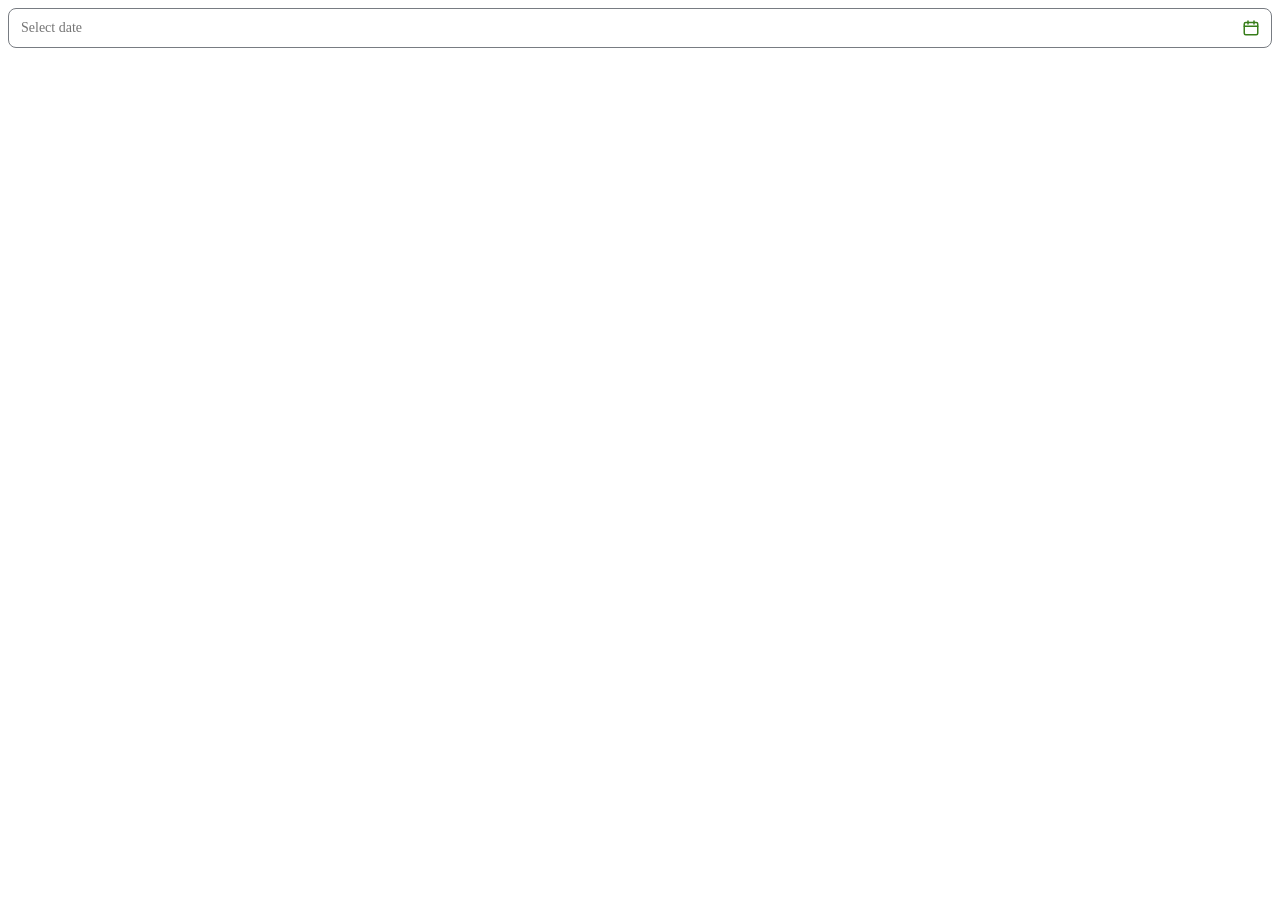
DatePicker › closes when the calendar button is clicked while open (review #3)
Click the field named "Event date". click: (621, 28)
box: x1=9 y1=9 x2=1233 y2=47
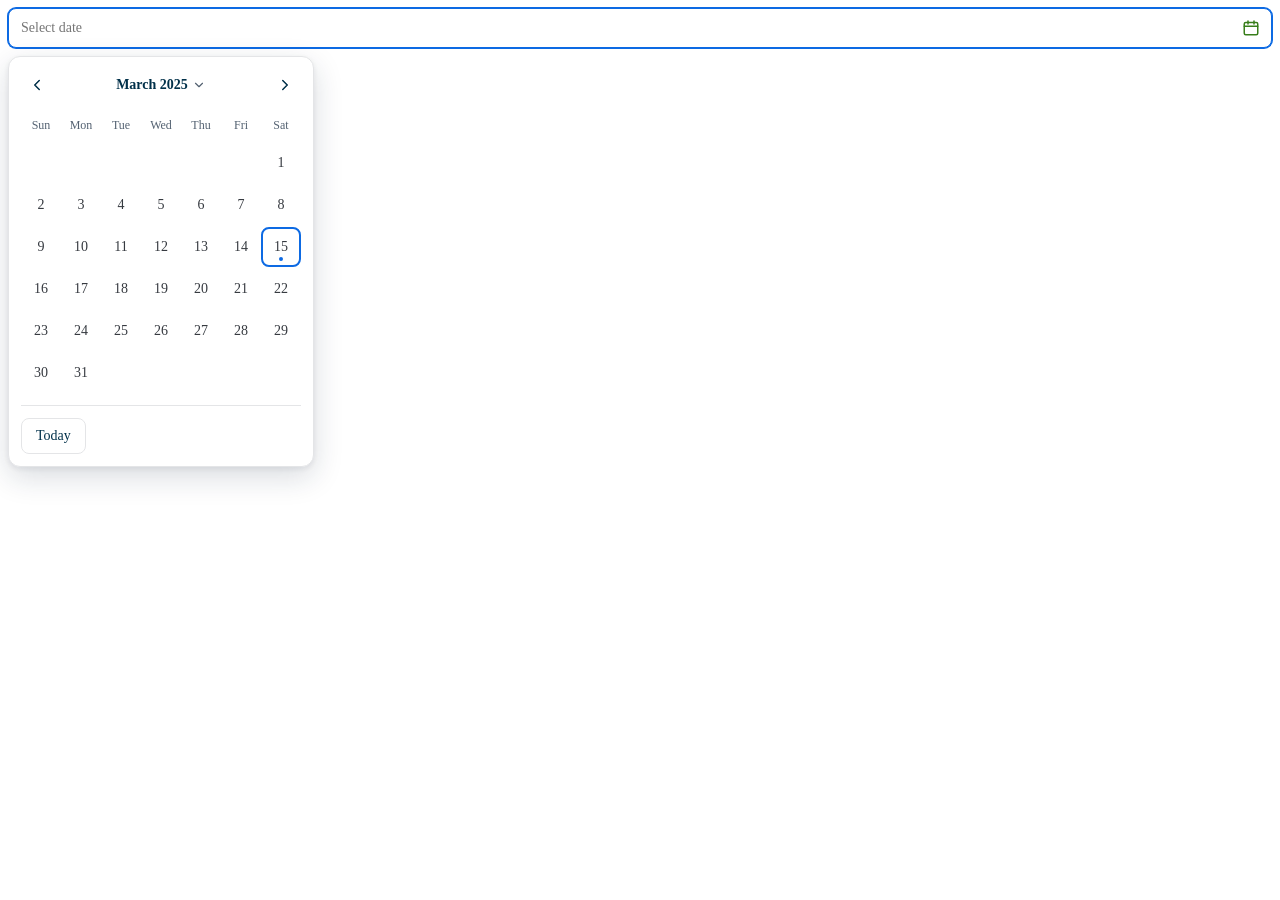
Check: the dialog is shown, box x1=8 y1=56 x2=314 y2=467
Click the button named "Open calendar". click: (1251, 28)
box: x1=1235 y1=12 x2=1267 y2=44
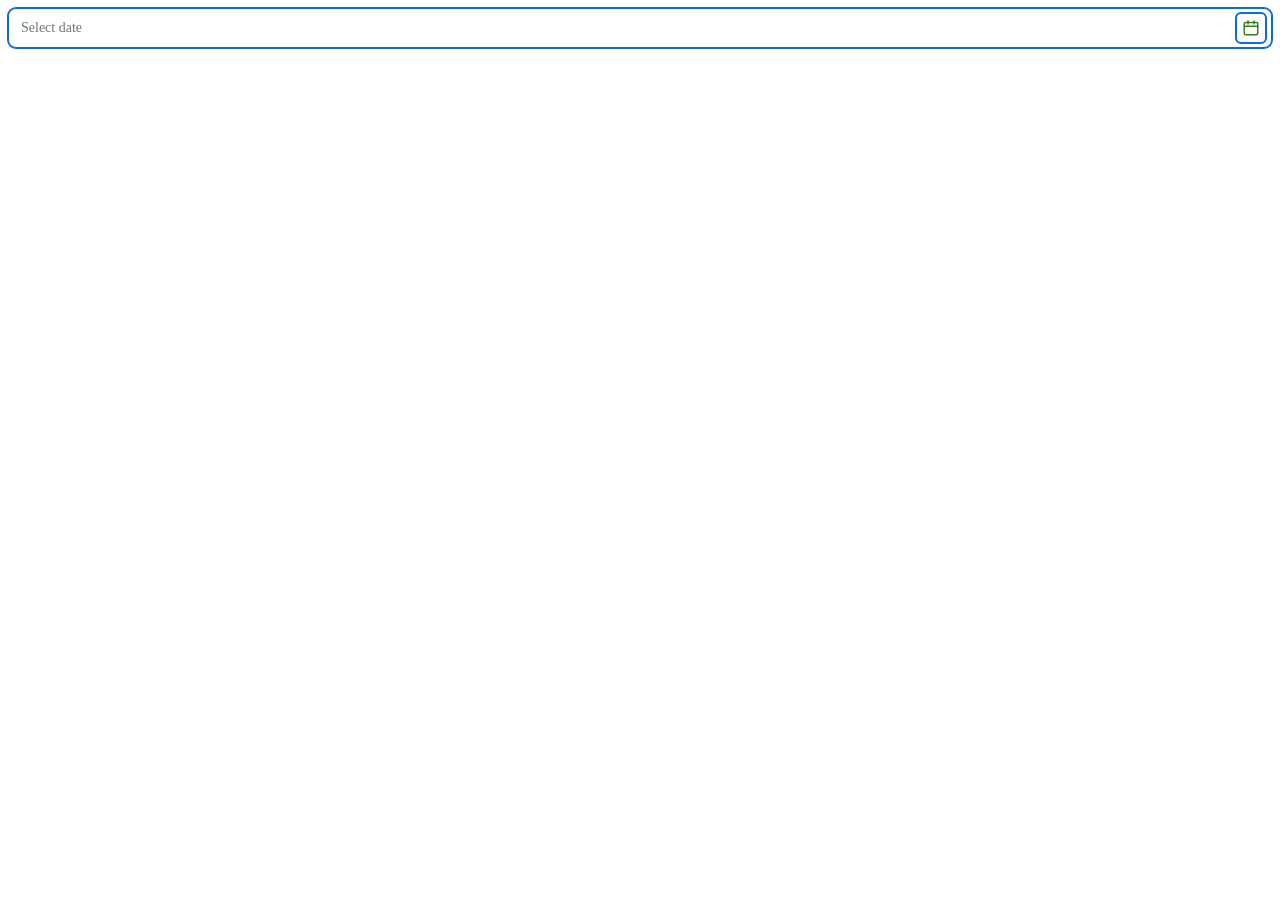
Check: the dialog is gone
Click the button named "Open calendar". click: (1251, 28)
box: x1=1235 y1=12 x2=1267 y2=44
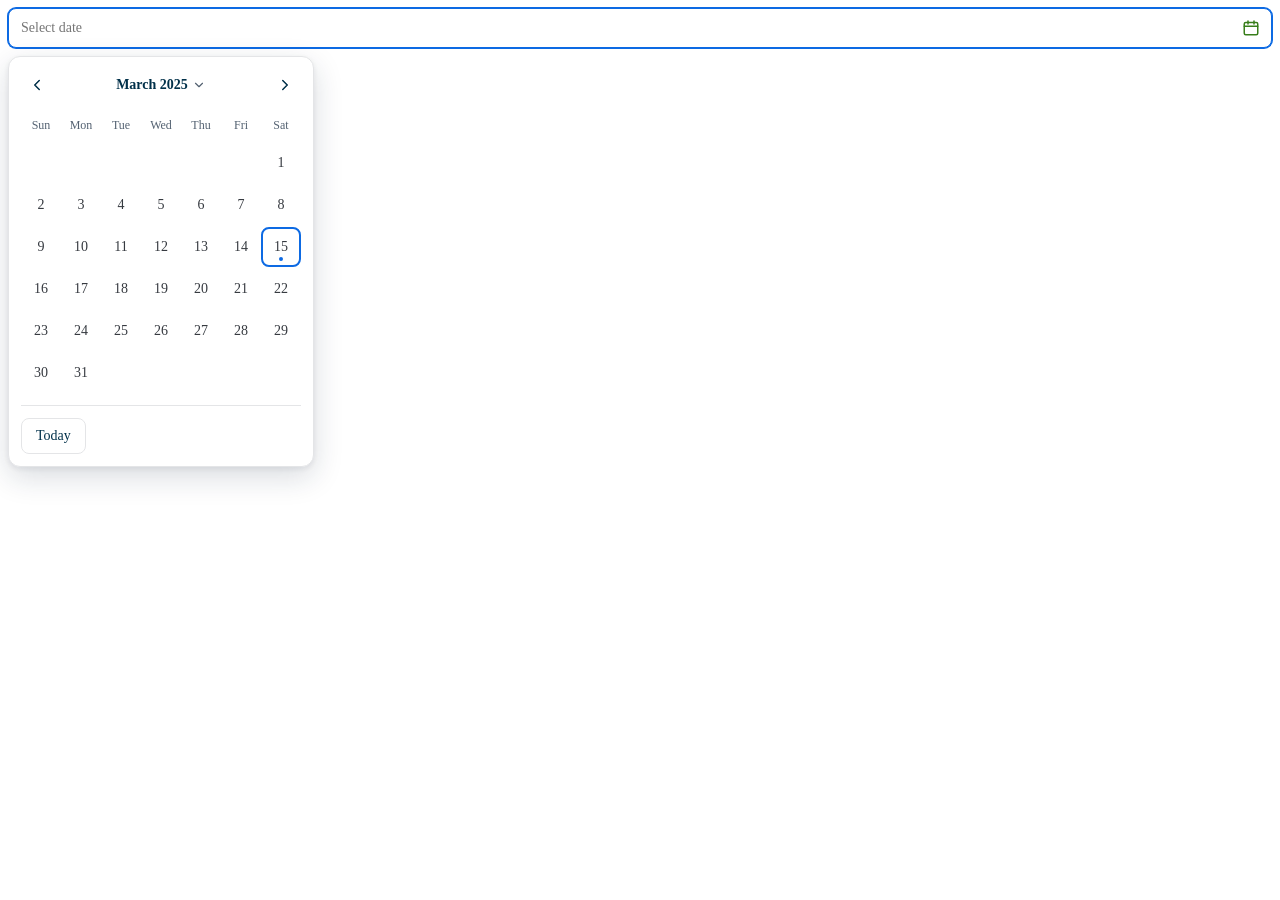
Check: the dialog is shown, box x1=8 y1=56 x2=314 y2=467
